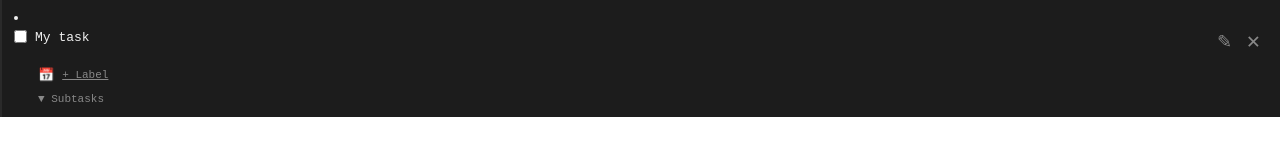
TaskRow — inline edit mode (Story 2.4) › clicking edit icon enters edit mode — input appears with current title (AC1)
Click the button named "edit task title" at [1224, 42], box x1=1210 y1=28 x2=1239 y2=58
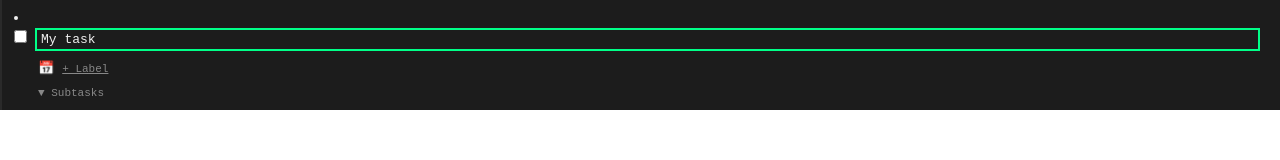
expect the field named "edit task title: my task" holds "My task": met, box x1=35 y1=28 x2=1260 y2=51
